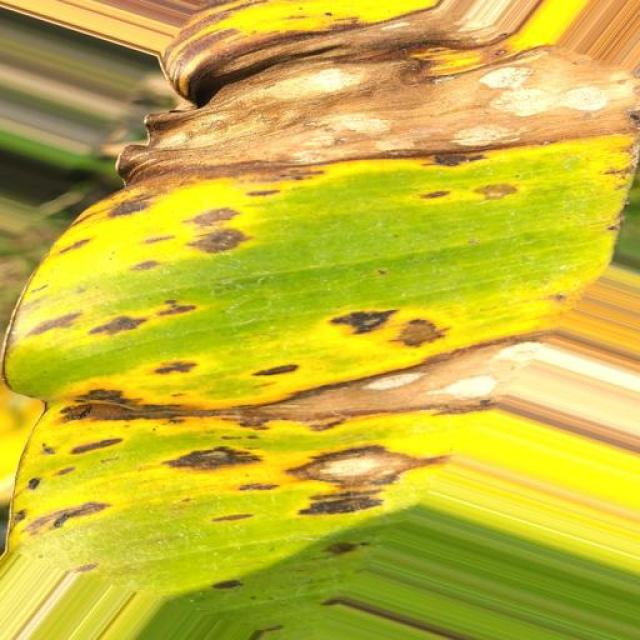Early_rust: (0, 81, 640, 583)
